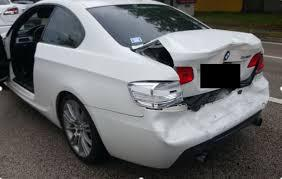boot-dent: (171, 28, 261, 97)
rear-bumper-dent: (177, 88, 259, 147)
